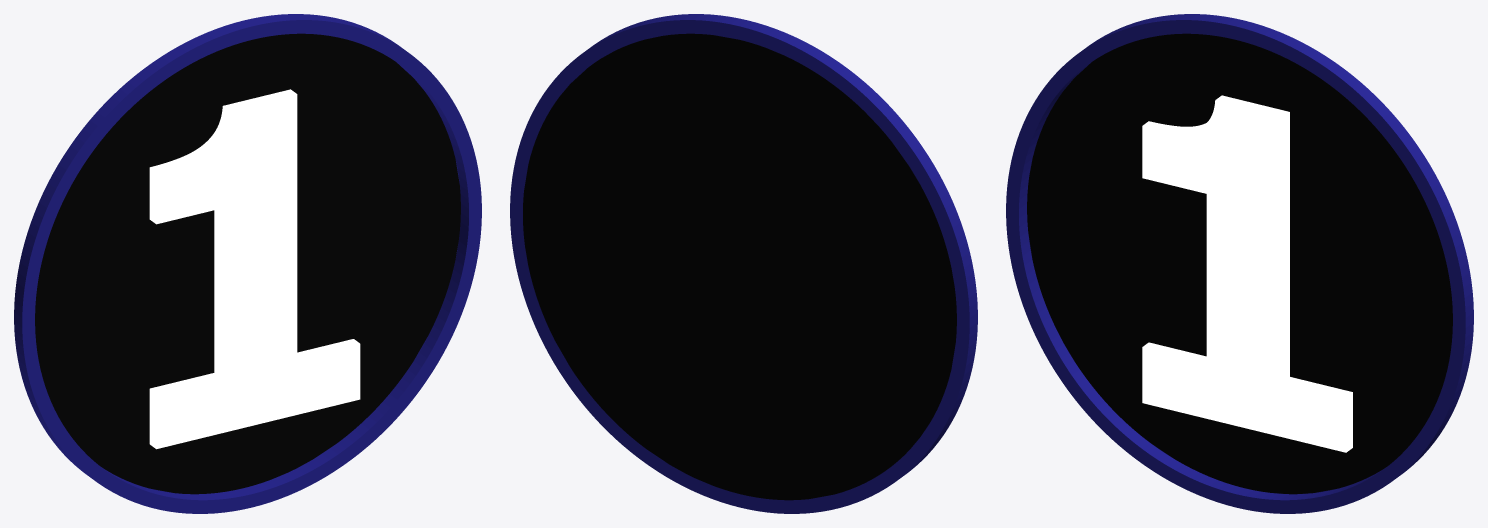
File: Number1.glb
3 views of the same model, side by side, from view 1: azimuth 30°, elevation 25°; view 2: azimuth 150°, elevation 25°; view 3: azimuth 330°, elevation 25° (orthographic).
Visible parts, largest first — view 1: Circle; view 2: Circle; view 3: Circle.
Boxes of the visible parts, left/top/right/bottom form: Circle: left=14, top=14, right=481, bottom=513; Circle: left=510, top=14, right=977, bottom=513; Circle: left=1006, top=14, right=1473, bottom=513.
Size of the model in its own units: 0.7231 by 0.7233 by 0.0223.
